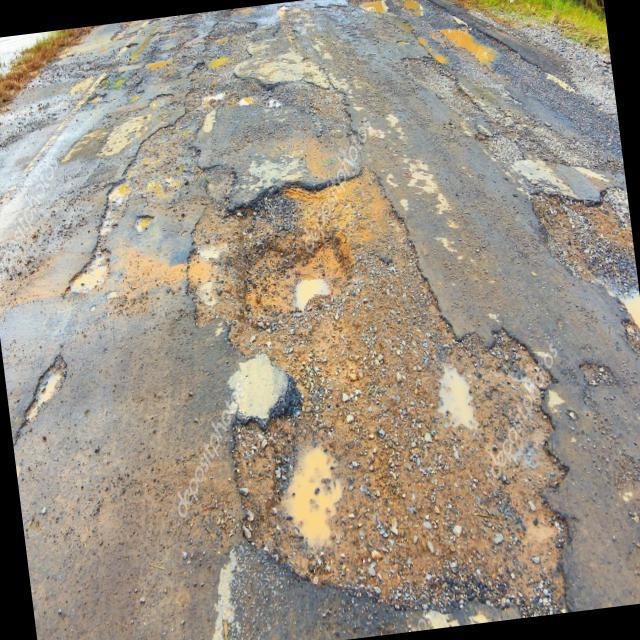Pothole: (166, 107, 603, 640), (519, 136, 640, 393), (42, 162, 171, 305), (226, 218, 370, 344), (258, 427, 362, 572), (3, 332, 85, 450), (434, 5, 516, 91), (422, 346, 487, 450), (578, 350, 624, 402), (414, 27, 452, 80), (347, 0, 403, 27), (129, 202, 158, 242), (197, 102, 222, 138), (233, 84, 258, 118), (396, 0, 429, 22), (262, 86, 284, 118), (202, 51, 232, 74), (141, 56, 175, 74), (124, 82, 146, 109), (86, 89, 108, 114), (147, 93, 162, 117), (112, 72, 127, 90)
